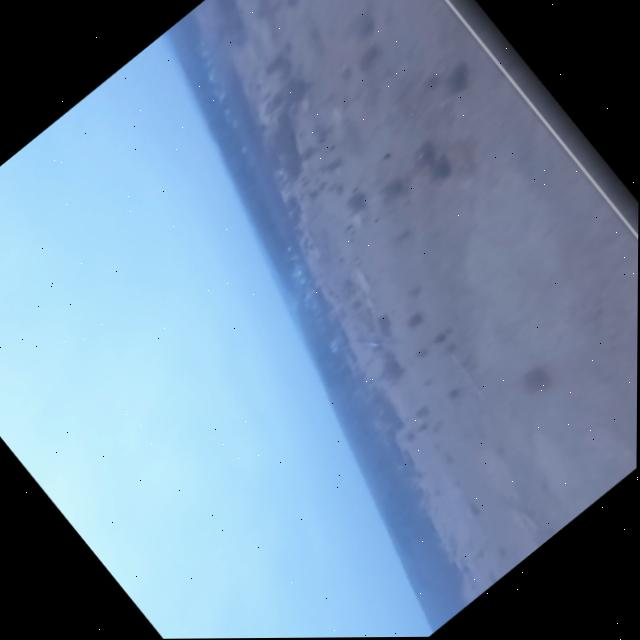planedrone: (350, 320, 401, 368)
